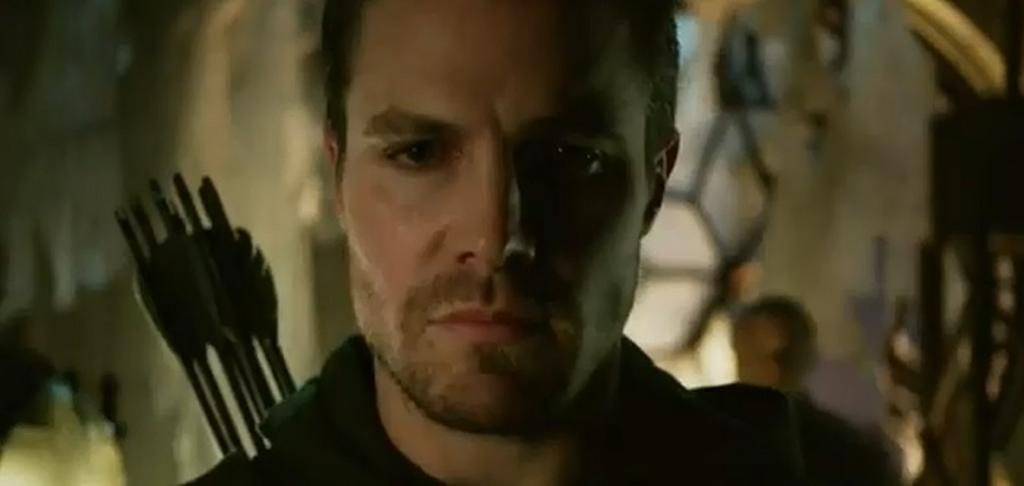face: (360, 14, 654, 428)
